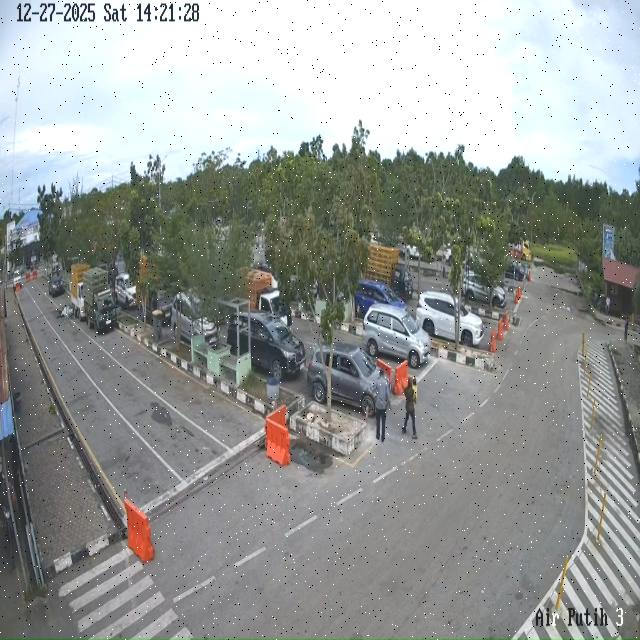Golongan IVA: (227, 312, 306, 380), (307, 343, 380, 416), (362, 304, 430, 368), (416, 291, 484, 347), (171, 292, 218, 346), (354, 279, 406, 318), (463, 271, 506, 308), (138, 291, 172, 326), (115, 273, 137, 309), (48, 272, 65, 298)
Golongan IVB: (83, 267, 117, 334), (69, 263, 90, 321)
